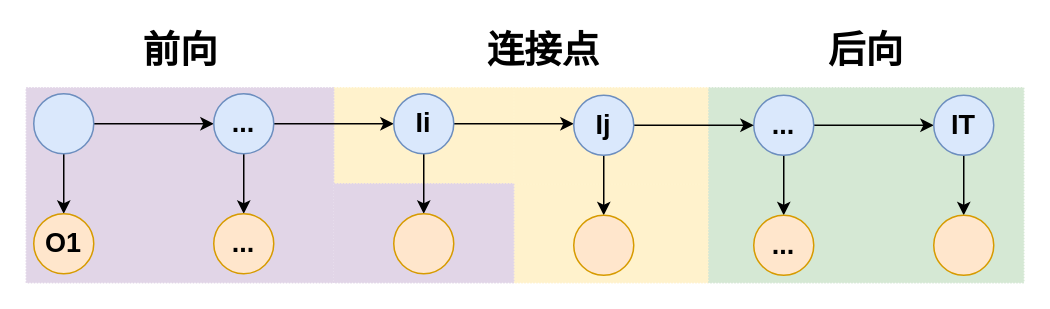
Some shapes in this 1050 by 309 pixel diagram are drawn without their labels. Each missing label, with the centre of its shape:
"I1" belongs at (x=63, y=123).
"Oi" belongs at (x=423, y=243).
"Oj" belongs at (x=603, y=244).
"OT" belongs at (x=963, y=244).
